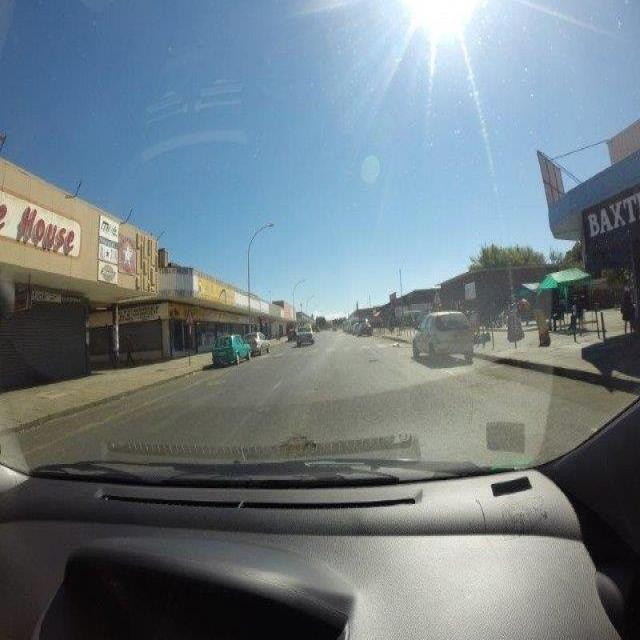lubang: (279, 425, 317, 463)
